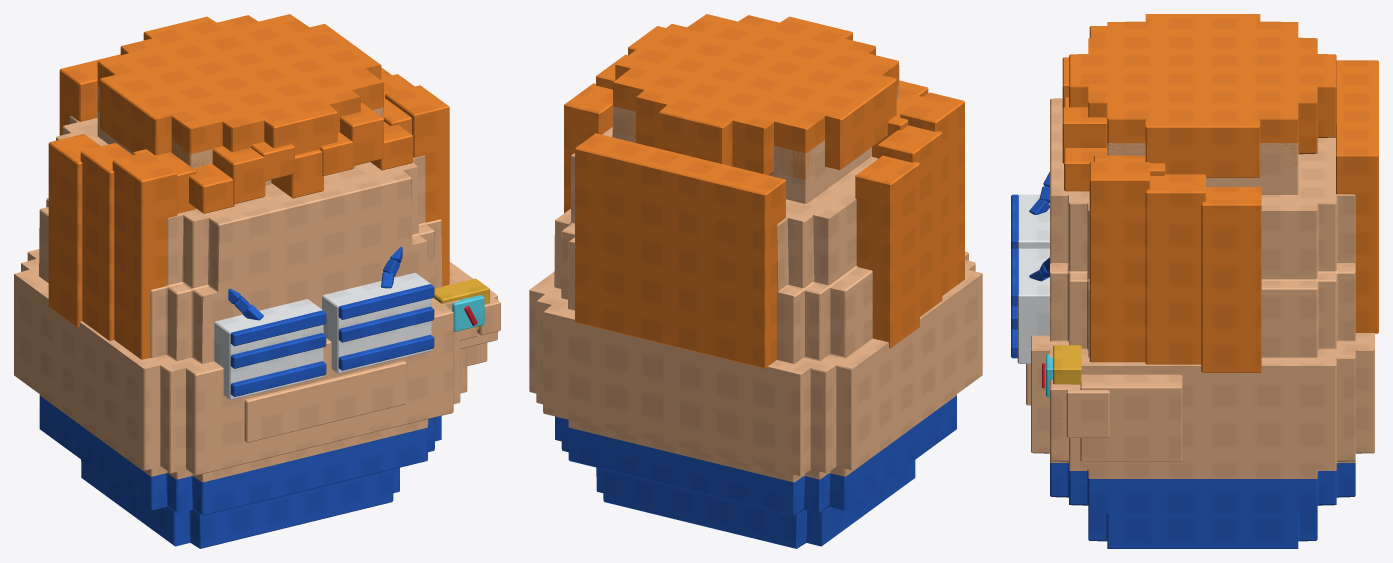
Rendered from Nami_Egg.fbx.
The picture shows the model from 3 angles, left to right: view 1: azimuth 30°, elevation 25°; view 2: azimuth 150°, elevation 25°; view 3: azimuth 270°, elevation 25°; orthographic projection. The views are drawn at different scales.
Parts seen in each view (by area): view 1: Nami_Egg; view 2: Nami_Egg; view 3: Nami_Egg.
Boxes of the visible parts, <box> form: Nami_Egg: <box>14,14,500,548</box>; Nami_Egg: <box>529,14,982,548</box>; Nami_Egg: <box>1011,14,1378,548</box>.
Bounding box in the file's own units: 288 × 320 × 252.
Materials: 7 (7 with a texture image).
